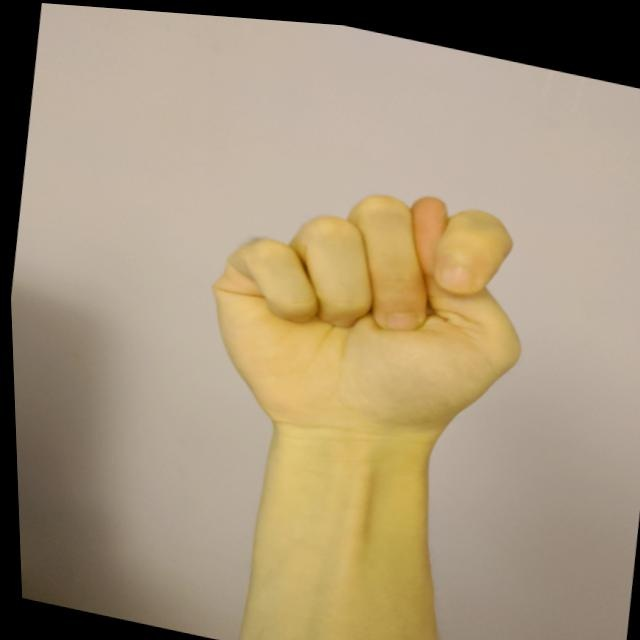T: (180, 141, 551, 482)
